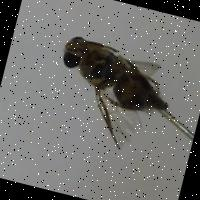Oriental-fruit-fly: (40, 26, 185, 165)
